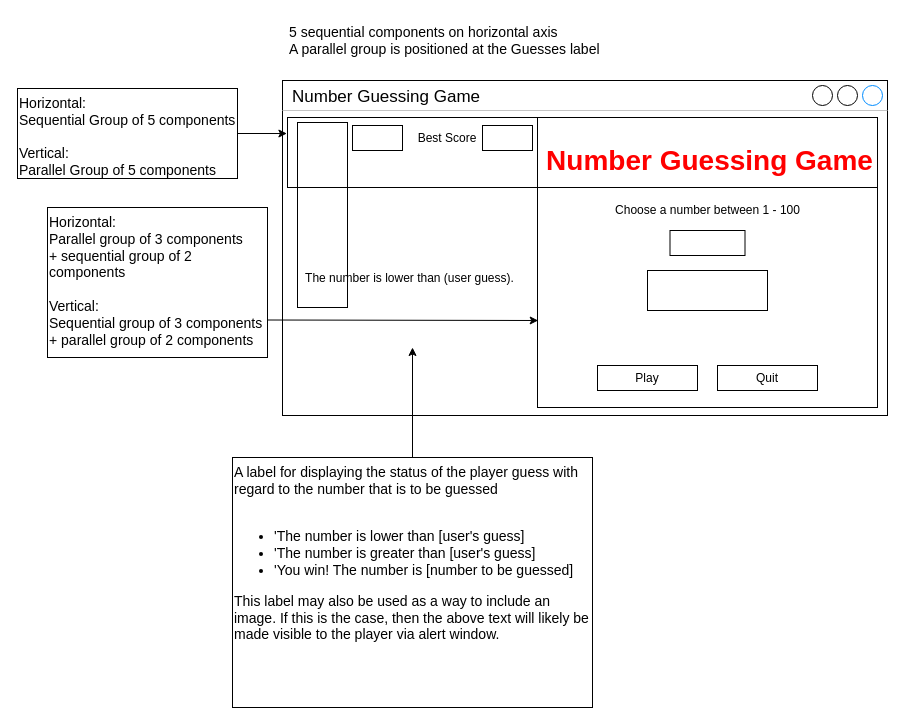
The diagram is 905 pixels wide and 725 high, and some of its shapes have lost their labels. Each missing label, with the centre of its shape:
"Guesses" goes at (x=322, y=215).
"Submit Guess" goes at (x=707, y=290).
